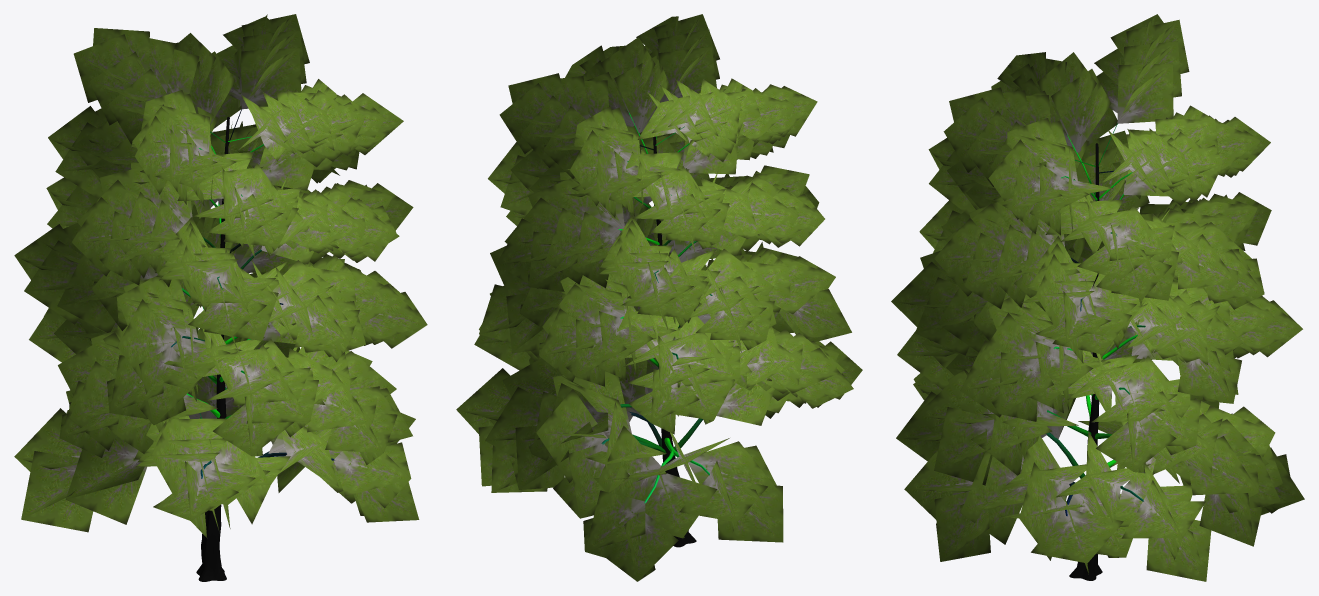
Rendered from BeechTree06.fbx.
The picture shows the model from 3 angles, left to right: view 1: azimuth 30°, elevation 25°; view 2: azimuth 150°, elevation 25°; view 3: azimuth 270°, elevation 25°; orthographic projection. The views are drawn at different scales.
Visible parts, largest first — view 1: Tree_1, Tree_0; view 2: Tree_1, Tree_0; view 3: Tree_1, Tree_0.
Boxes of the visible parts, x1,y1,x2,y2 form: Tree_1: (14,14,427,538); Tree_0: (171,109,334,581); Tree_1: (456,14,862,581); Tree_0: (601,110,712,547); Tree_1: (891,14,1304,581); Tree_0: (1046,123,1145,580).
Size of the model in its own units: 88.4 by 124 by 89.22.
